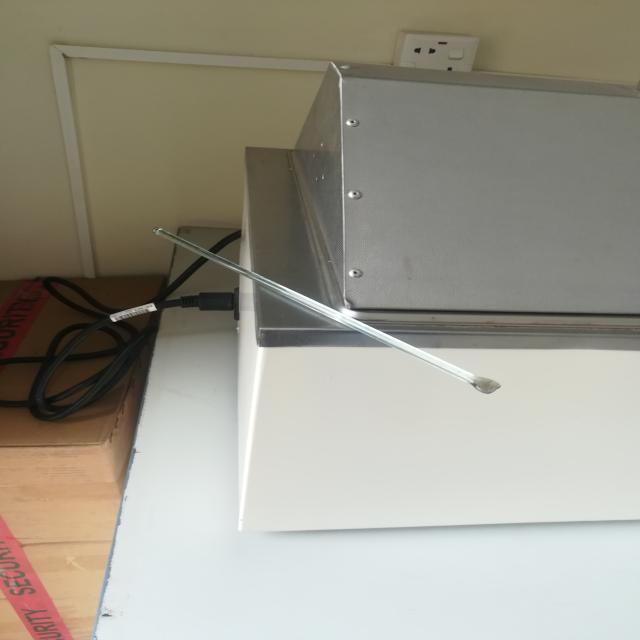Glass_Rod: (119, 189, 533, 427)
